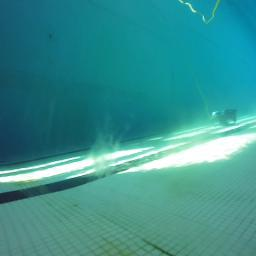back: (211, 106, 238, 129)
